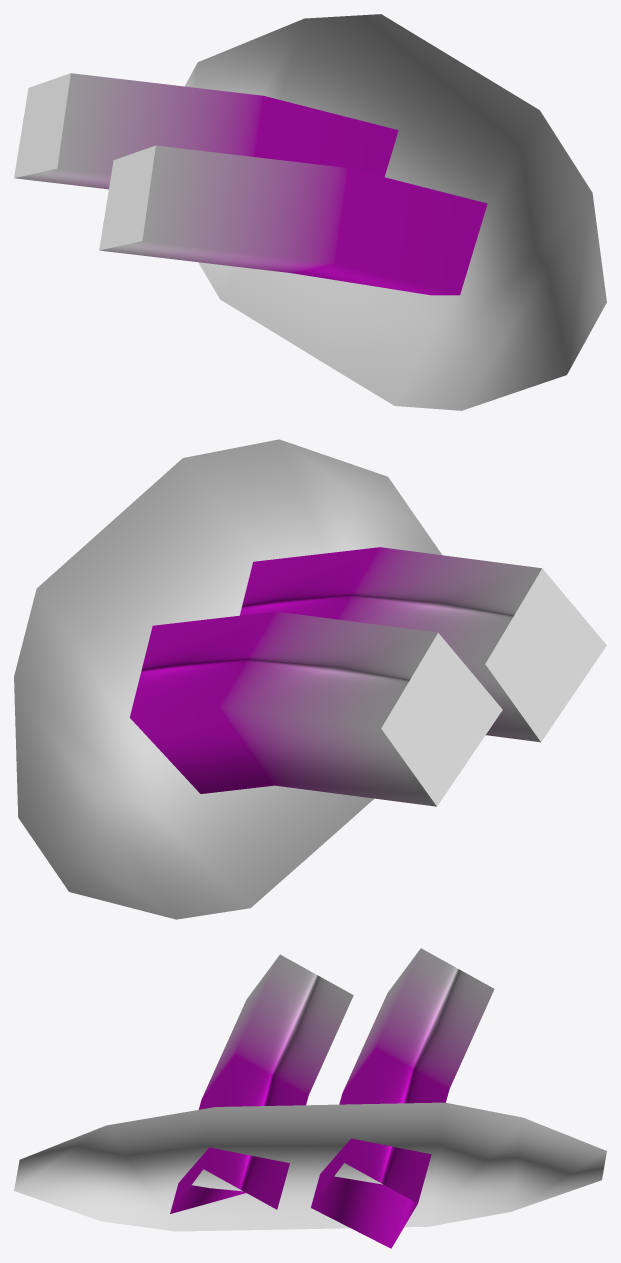
File: Car_Mini_CountrymanJCW_2017_MirrorBaseR_SetXS.fbx
3 views of the same model, one above another, from view 1: azimuth 30°, elevation 25°; view 2: azimuth 150°, elevation 25°; view 3: azimuth 270°, elevation 25° (orthographic). The views are drawn at different scales.
Visible parts, largest first — view 1: MirrorBaseR 4; view 2: MirrorBaseR 4; view 3: MirrorBaseR 4.
Boxes of the visible parts, x1,y1,x2,y2 form: MirrorBaseR 4: (14, 14, 606, 410); MirrorBaseR 4: (14, 439, 606, 919); MirrorBaseR 4: (14, 948, 606, 1248).
Size of the model in its own units: 0.0235 by 0.0159 by 0.0393.
